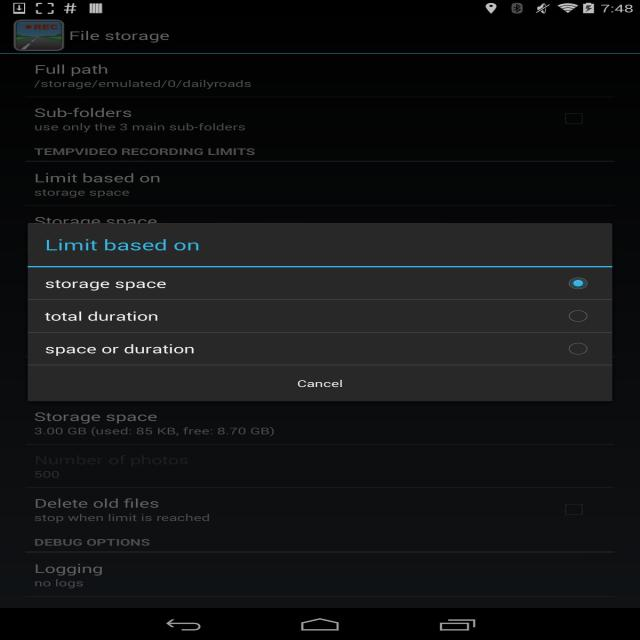button: (264, 370, 388, 397), (556, 333, 606, 362), (560, 307, 594, 327), (564, 276, 593, 295)
heading: (39, 237, 207, 259), (32, 146, 257, 160), (30, 454, 193, 466), (70, 27, 176, 45), (31, 496, 161, 510), (30, 171, 164, 184), (32, 410, 163, 423), (32, 104, 138, 119), (31, 535, 151, 548), (31, 63, 112, 77), (29, 564, 109, 576)
image: (12, 21, 65, 53)
text: (30, 424, 277, 441), (31, 510, 216, 526), (32, 120, 252, 132), (40, 342, 209, 357), (28, 78, 257, 89), (40, 310, 166, 328), (41, 275, 172, 292), (30, 182, 138, 200), (30, 580, 97, 592), (292, 377, 348, 389), (30, 467, 74, 482)
